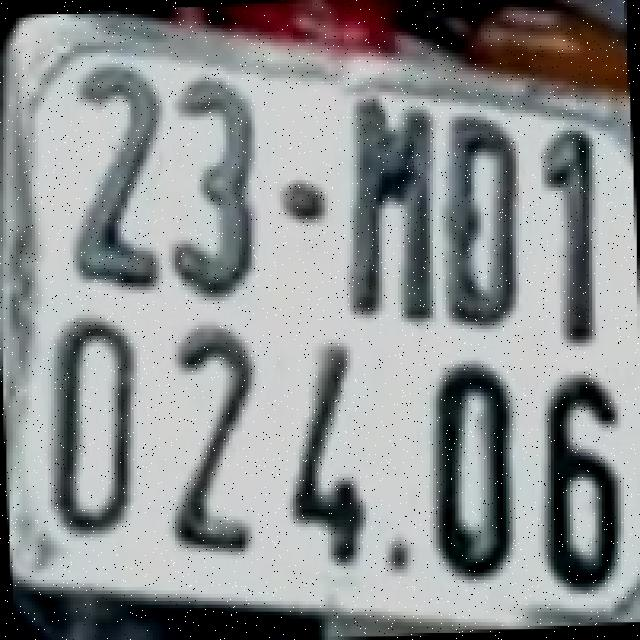0: (52, 318, 136, 534), (433, 363, 513, 578)
1: (541, 129, 602, 341)
2: (70, 60, 166, 290), (174, 324, 256, 554)
3: (170, 76, 256, 295)
4: (290, 339, 369, 566)
6: (543, 377, 622, 585)
B: (444, 115, 521, 331)
M: (346, 92, 434, 318)
